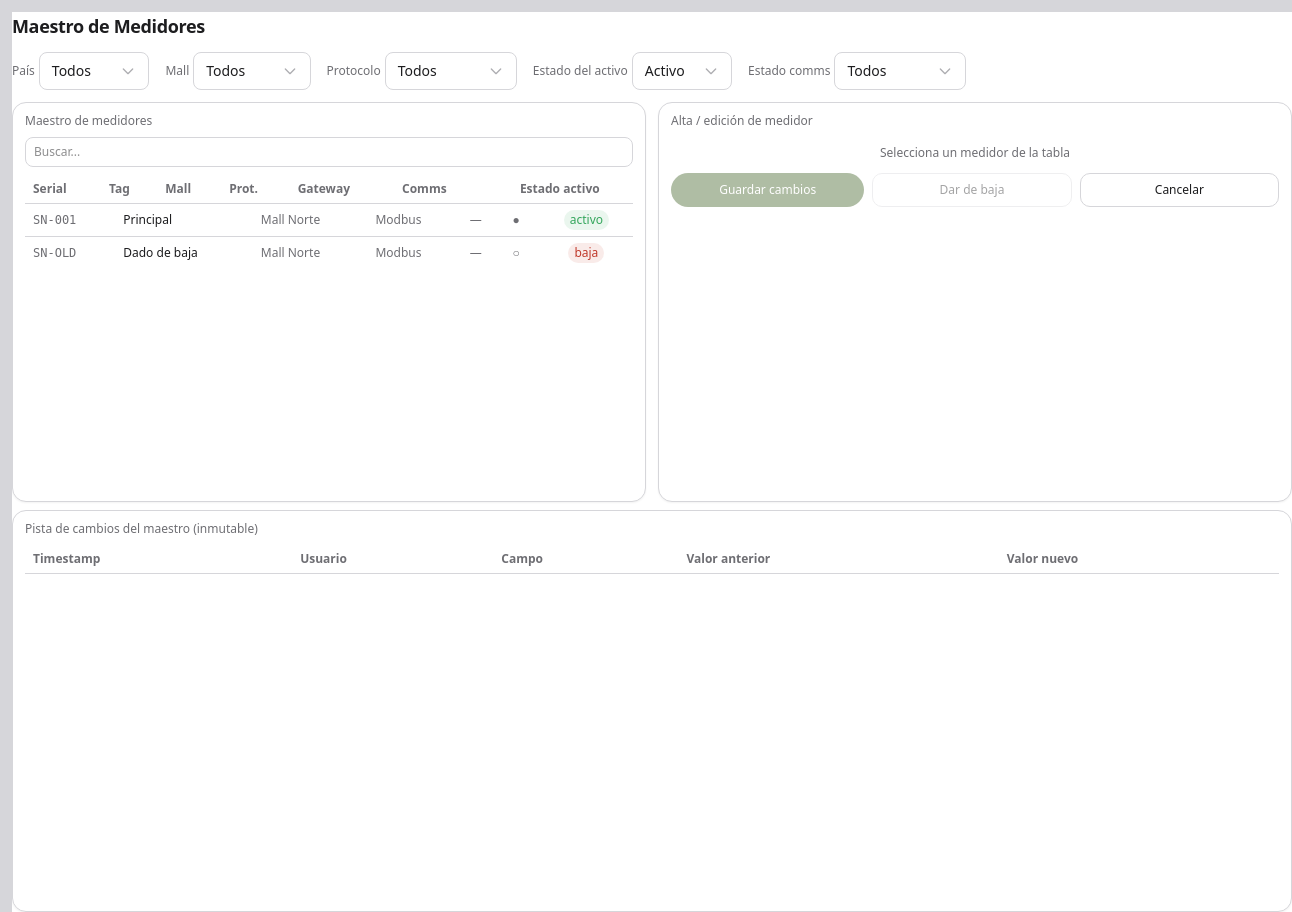
Test: MaestroMedidoresPage › filters by search
The image size is (1292, 912).
Type "SN-001" into the field with placeholder "Buscar...".
click(329, 152); type("SN-001")  # box [25, 137, 633, 167]
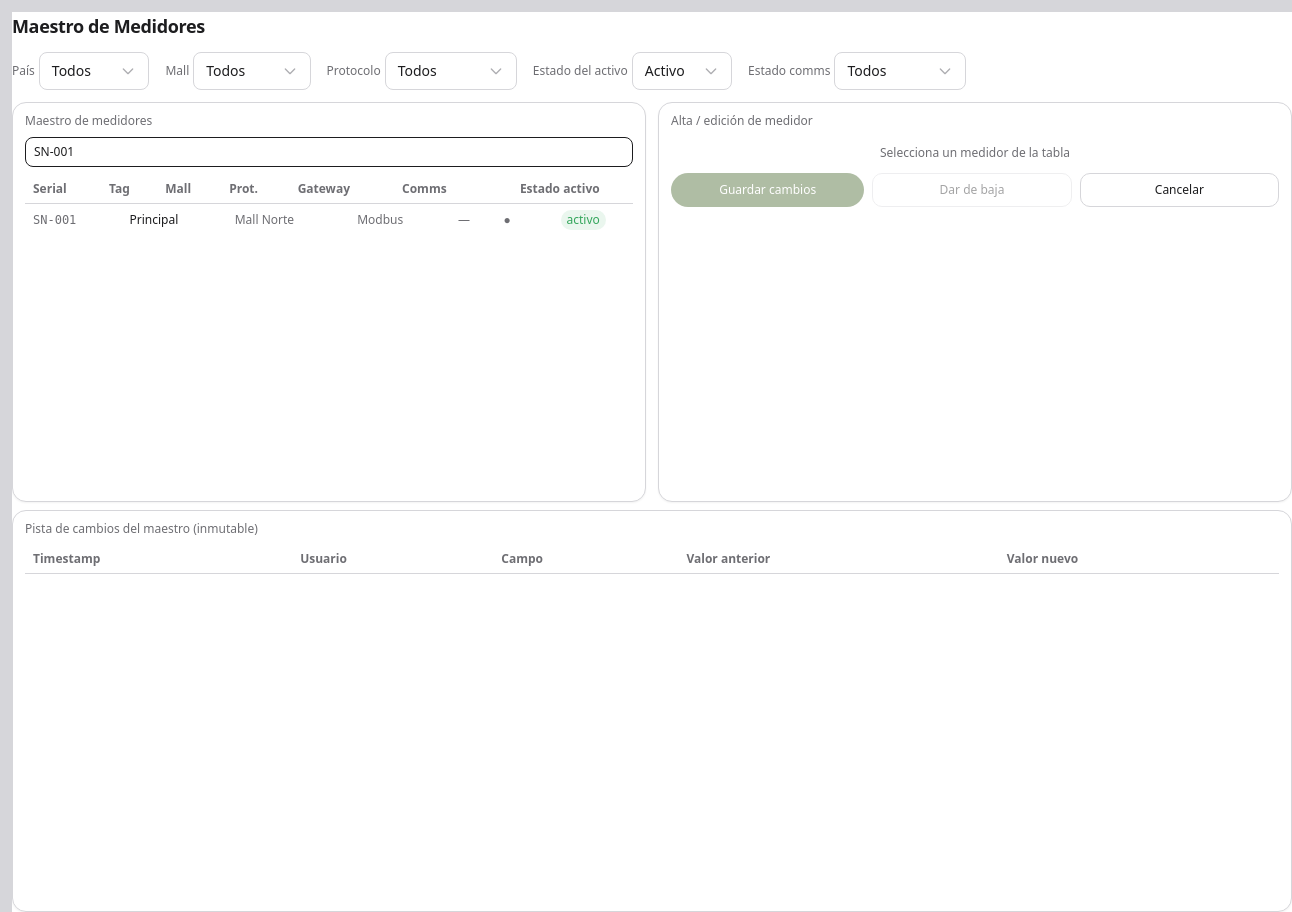
Expected: the text "Principal" is shown, [122, 204, 227, 236]
Expected: the text "Dado de baja" is gone
